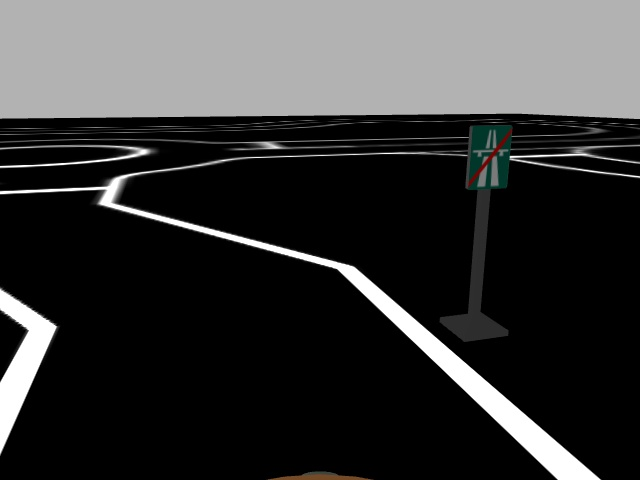leave_highway: (466, 123, 513, 191)
